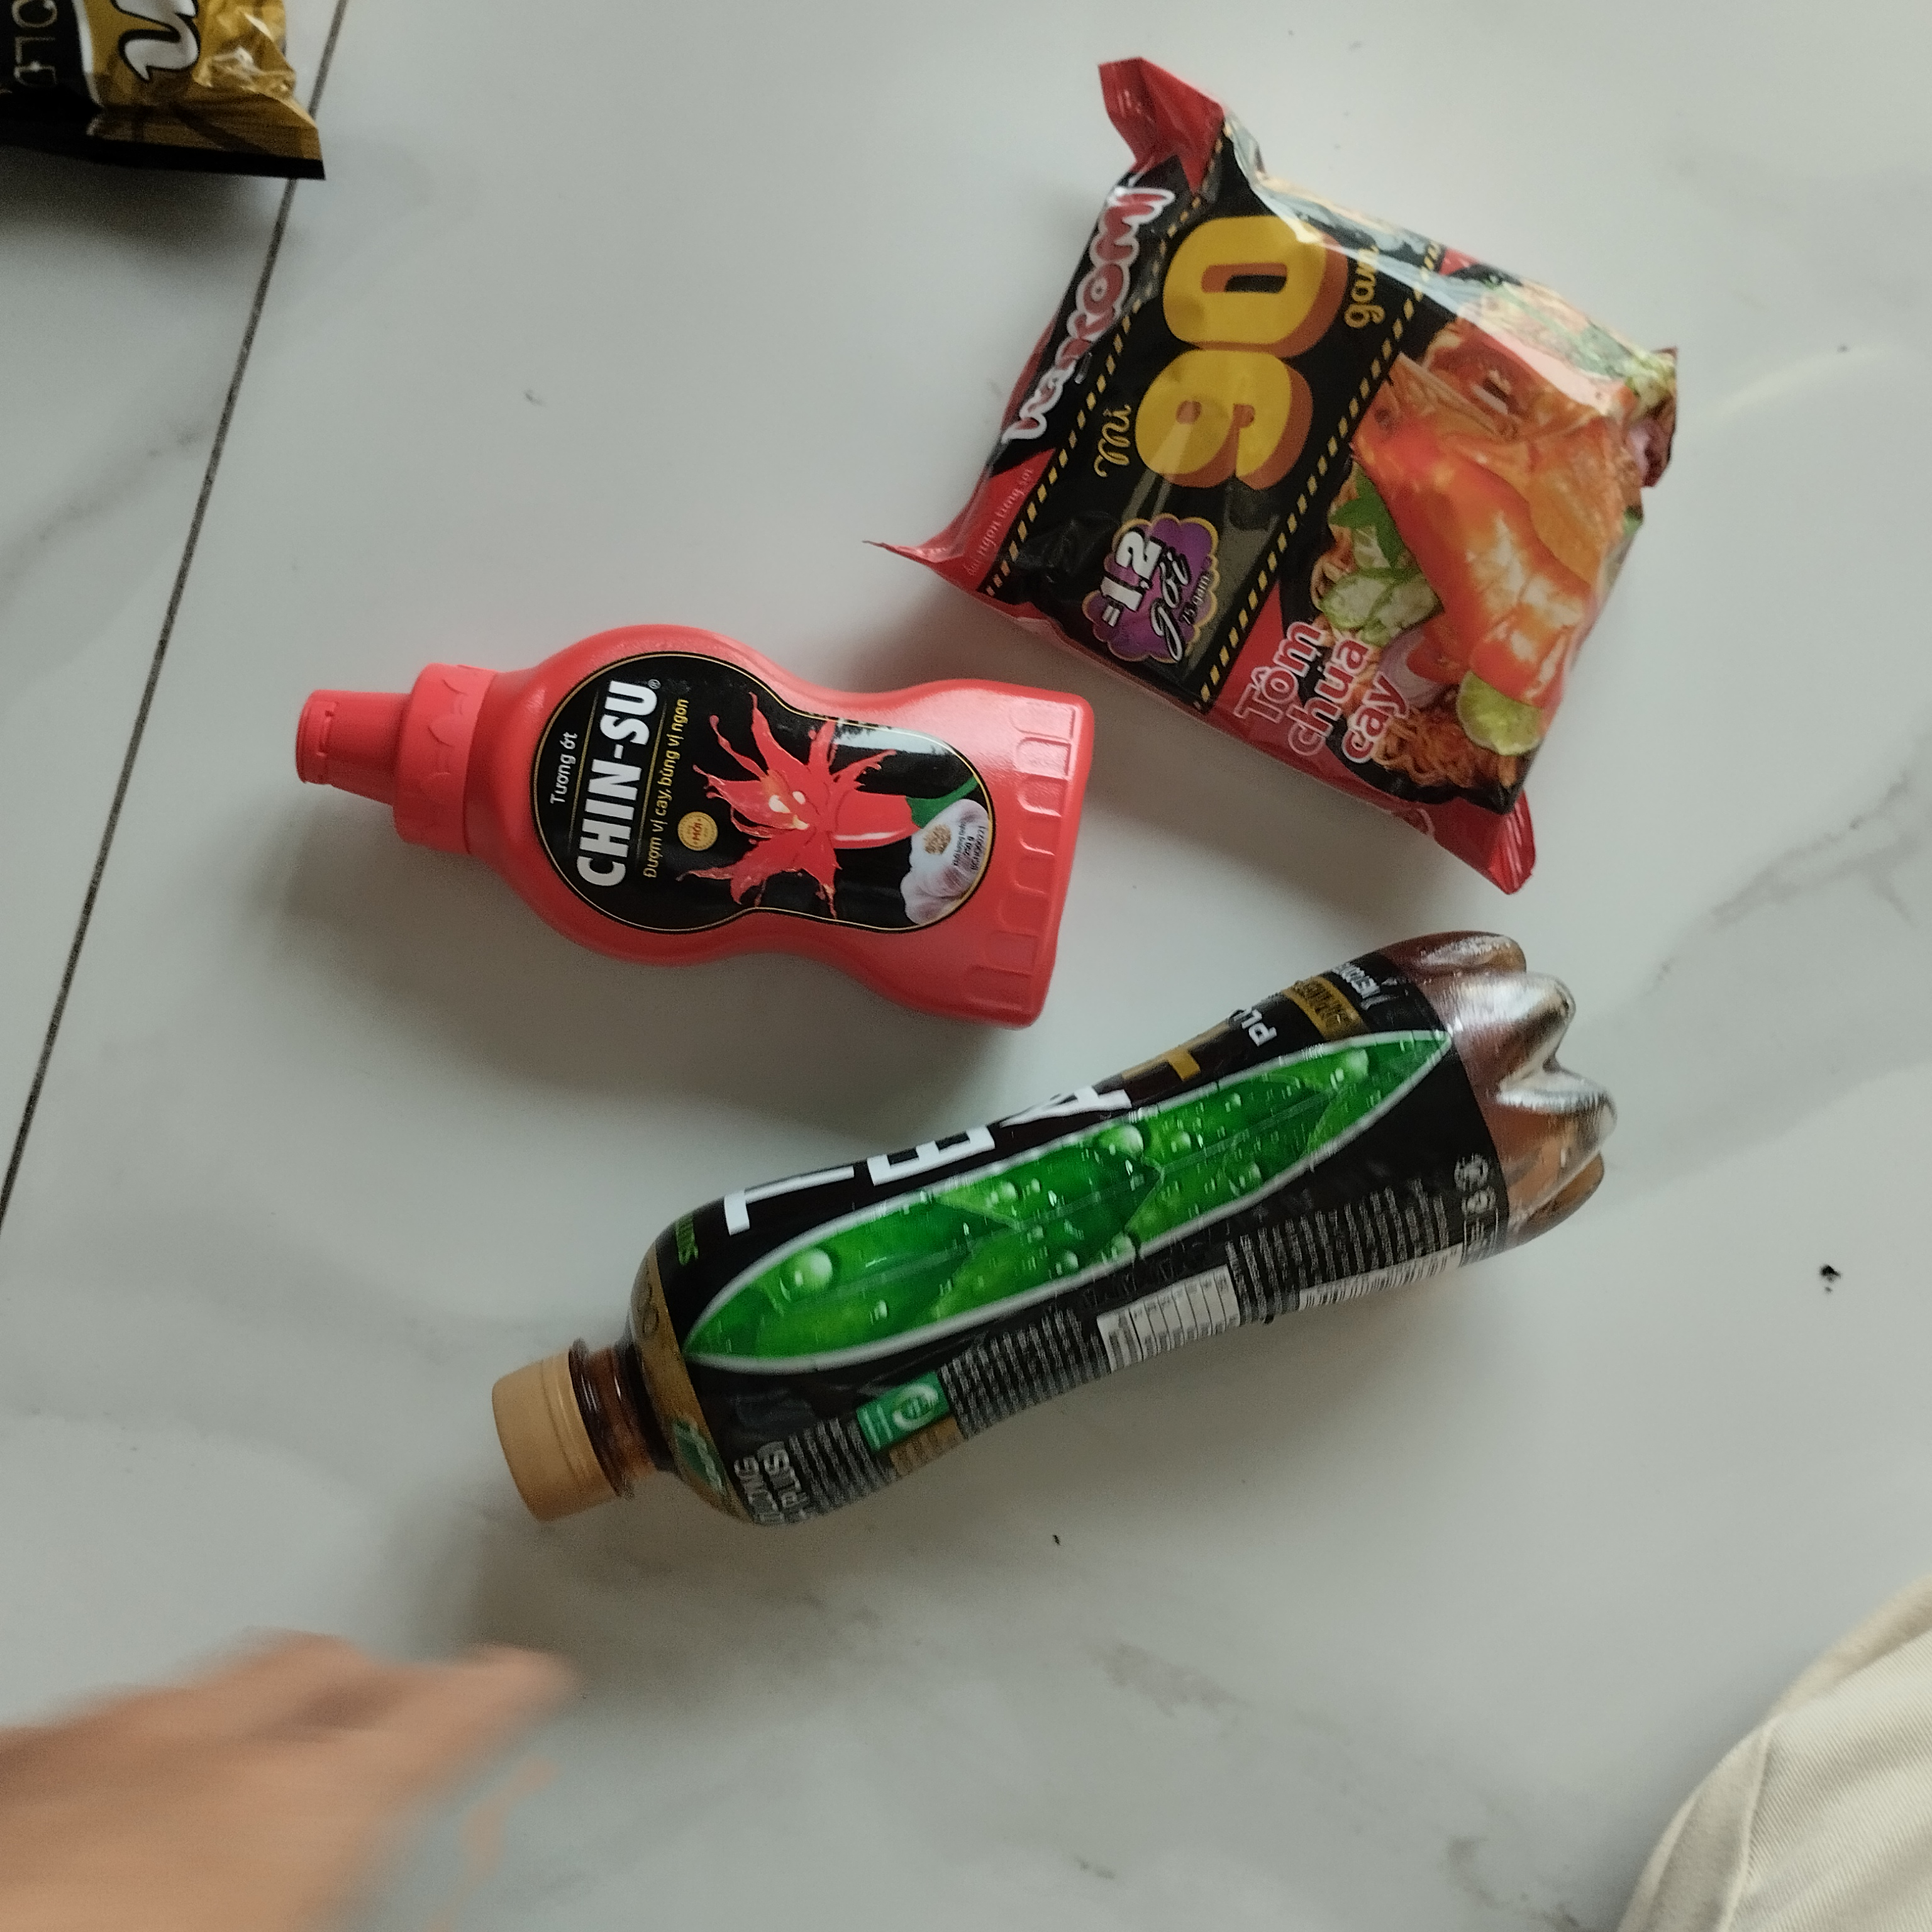Chinsu: (253, 612, 1100, 1044)
Kokomi: (881, 55, 1683, 909)
Olong: (481, 927, 1621, 1537)
